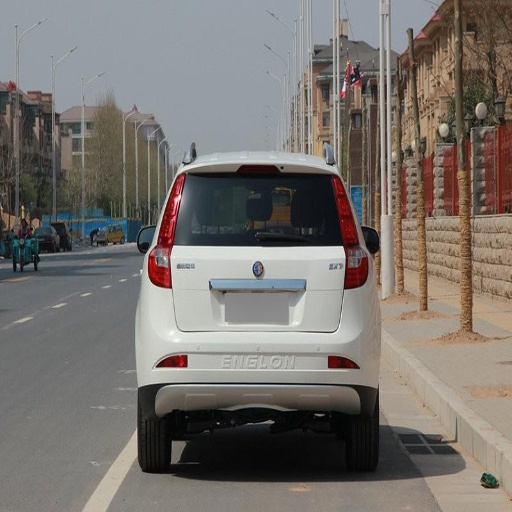back_bumper: (137, 283, 380, 413)
trunk: (164, 247, 347, 363)
